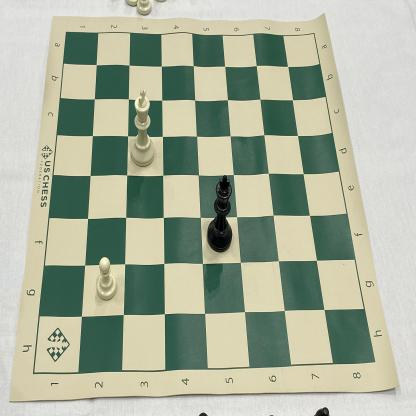black-king: (205, 171, 236, 255)
white-king: (128, 88, 156, 169)
white-pawn: (94, 254, 118, 303)
